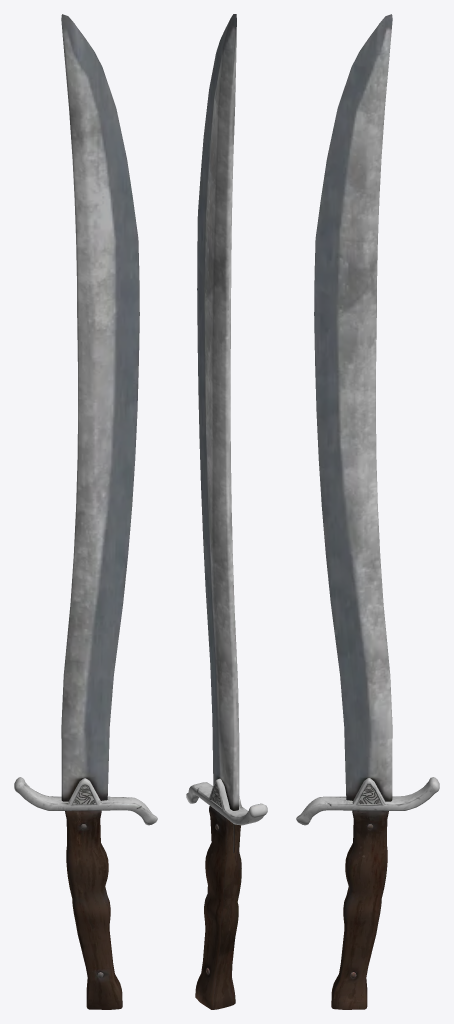
The model's file is wooden_handle_saber.glb.
3 views of the same model, side by side, from view 1: azimuth 90°, elevation 25°; view 2: azimuth 210°, elevation 25°; view 3: azimuth 270°, elevation 25° (orthographic).
Visible parts, largest first — view 1: wooden_handle_saber; view 2: wooden_handle_saber; view 3: wooden_handle_saber.
Part boxes in pixels (x1=…): wooden_handle_saber: x1=14, y1=14, x2=157, y2=1009; wooden_handle_saber: x1=186, y1=14, x2=267, y2=1009; wooden_handle_saber: x1=296, y1=14, x2=439, y2=1009.
Size of the model in its own units: 0.0257 by 0.9355 by 0.1228.
1 material, 1 textured.
